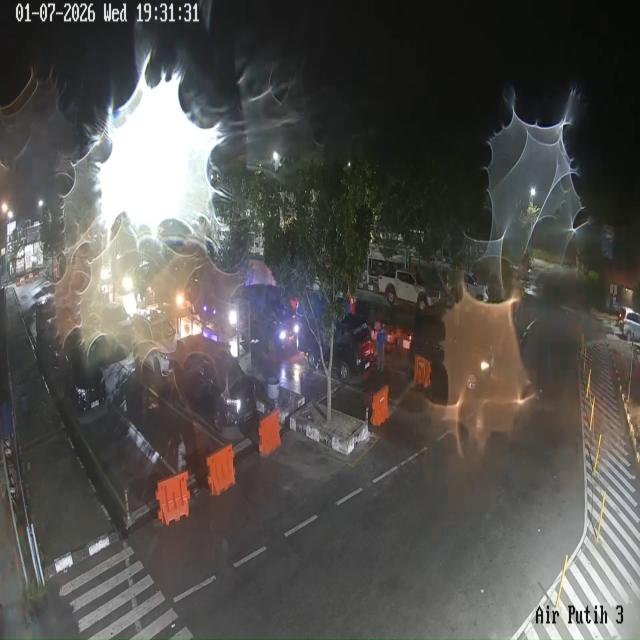Golongan IVA: (174, 334, 256, 433), (298, 314, 376, 382), (131, 309, 178, 383)
Golongan IVB: (378, 270, 432, 311)
